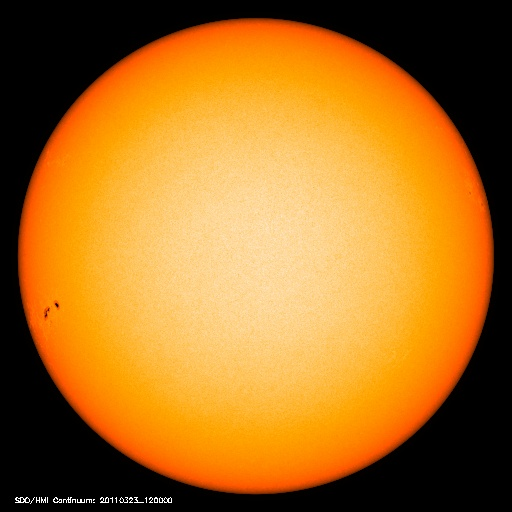sunspot: (37, 292, 70, 325)
